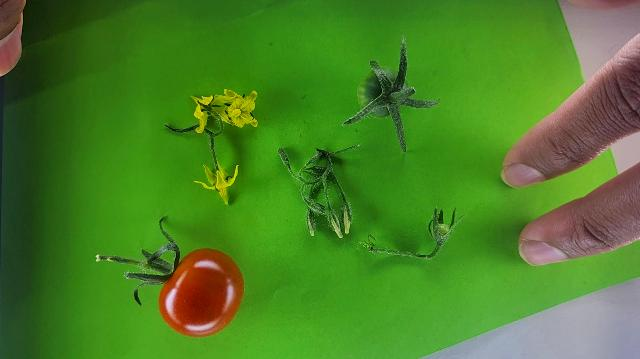Anthesis: (195, 161, 239, 207), (188, 93, 232, 133), (219, 89, 259, 128)
Flower Bud: (329, 213, 342, 237), (306, 208, 316, 237), (344, 217, 351, 235)
Fruit Bud: (436, 223, 450, 238)
Fruit Maturation: (356, 66, 401, 117)
Fully Grown: (157, 248, 246, 339)
